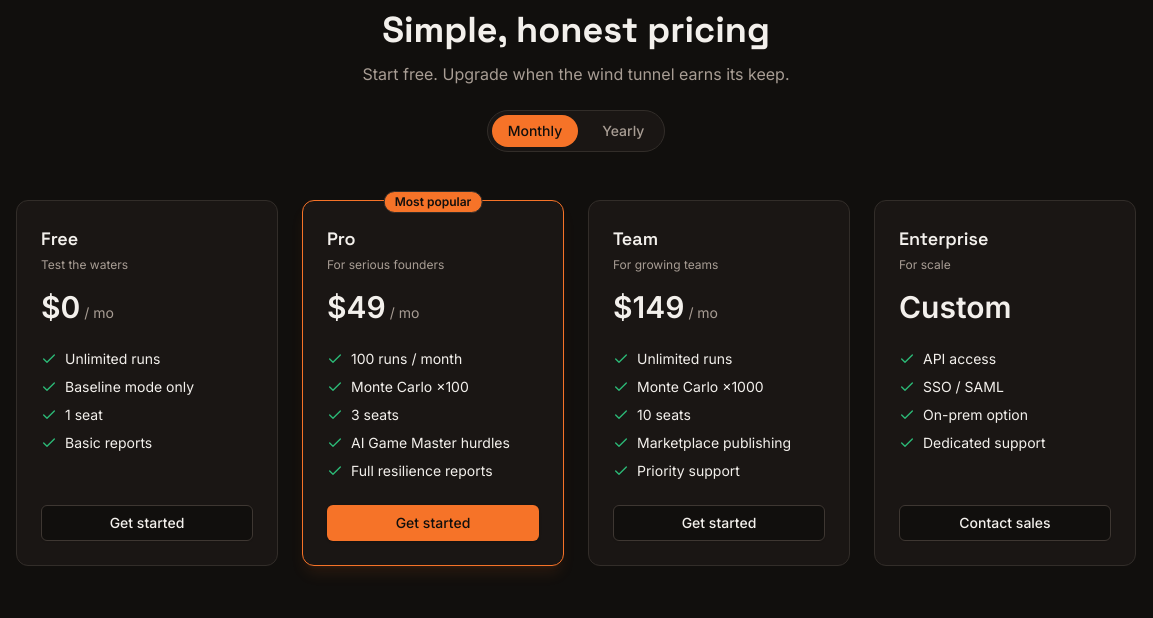
Test case: PricingPage › toggles between monthly and yearly prices
Expected: the text "$49" is shown, [327,289,386,325]
Click the button "Yearly" at (623, 131), box [586,115,660,147]
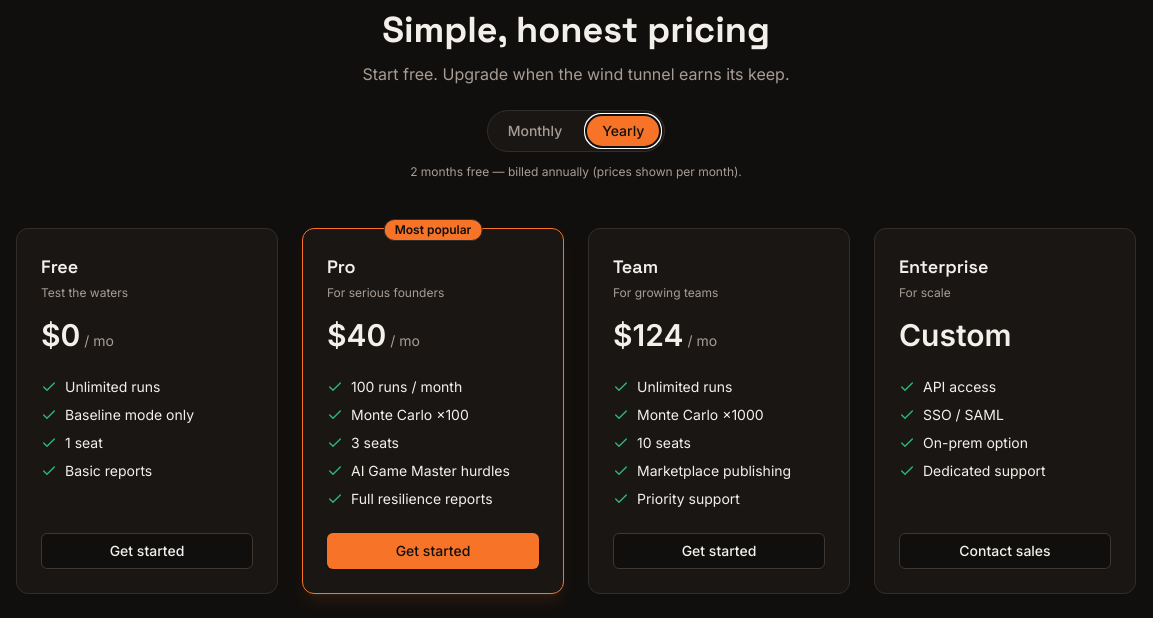
Expected: the text "$40" is shown, [327,317,386,353]
Expected: the text "$49" is gone
